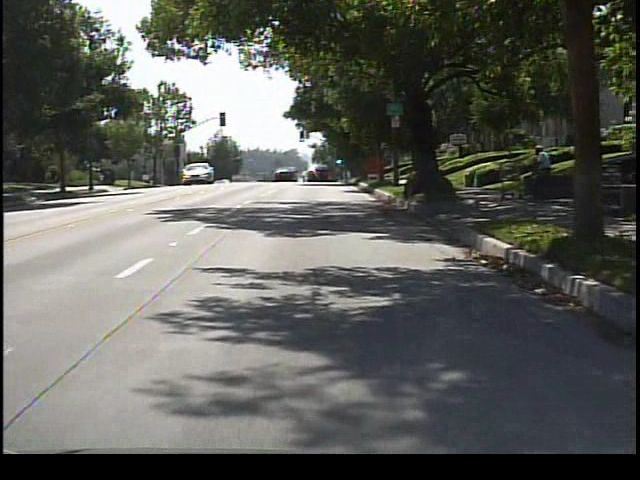person: (526, 142, 557, 205)
